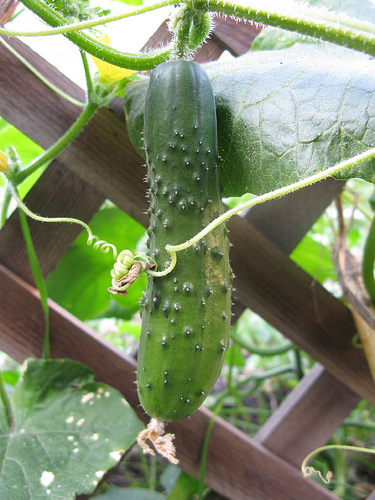cucumber: (135, 60, 235, 465)
